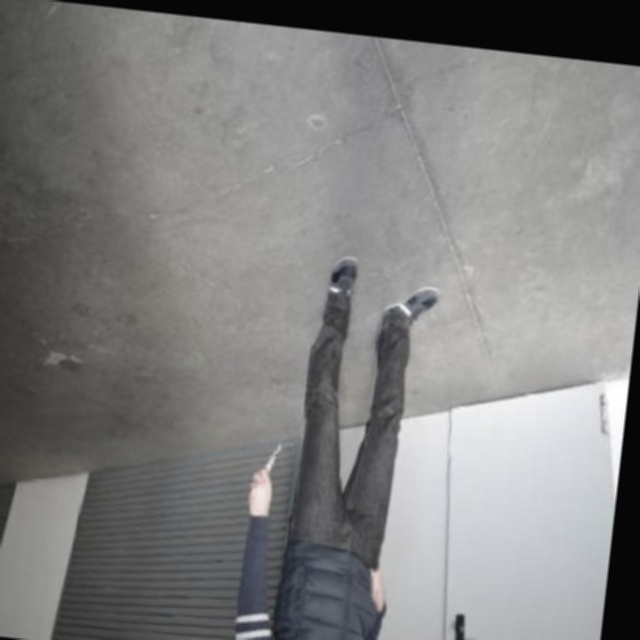Sharp-Object: (263, 441, 282, 474)
